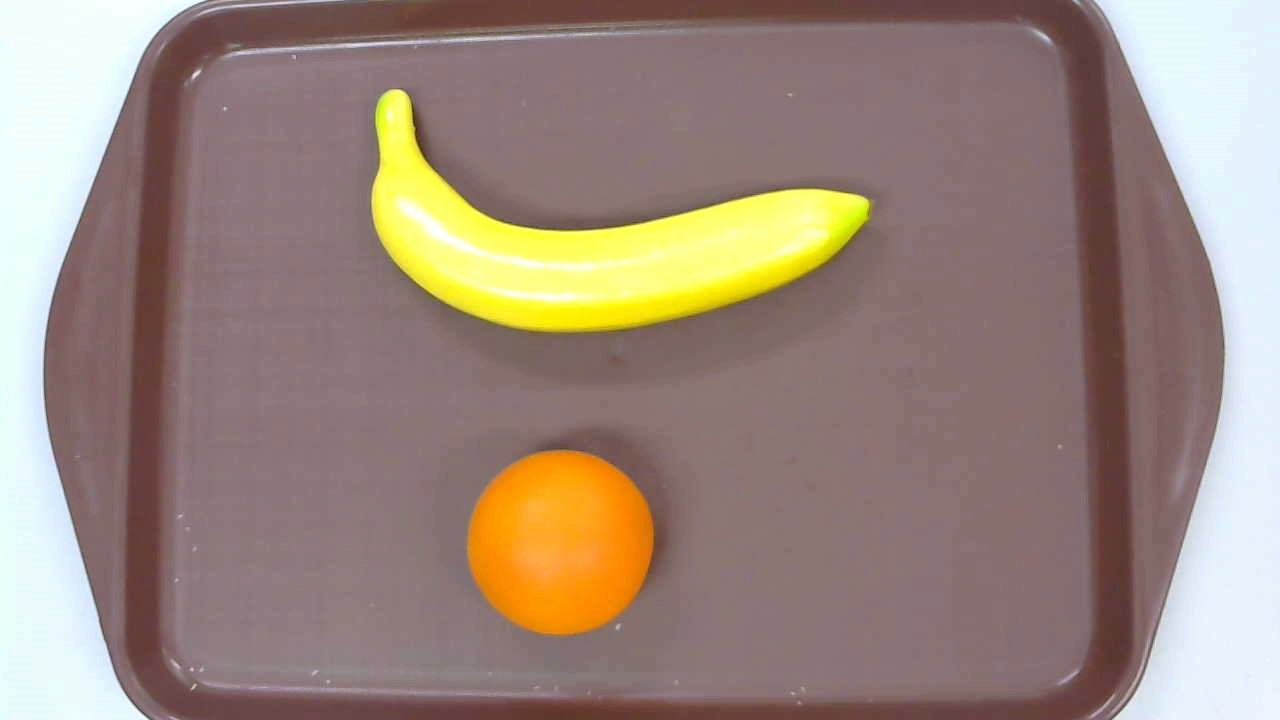banana: (371, 88, 870, 333)
bun: (466, 449, 653, 637)
